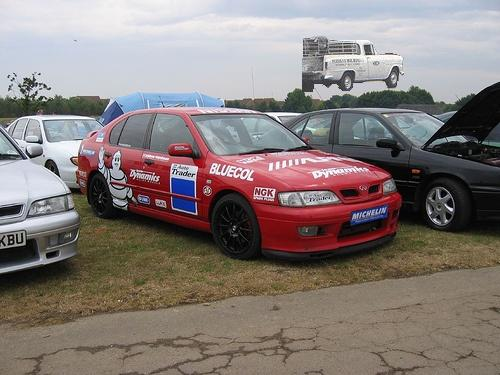tampered: (303, 37, 404, 92)
